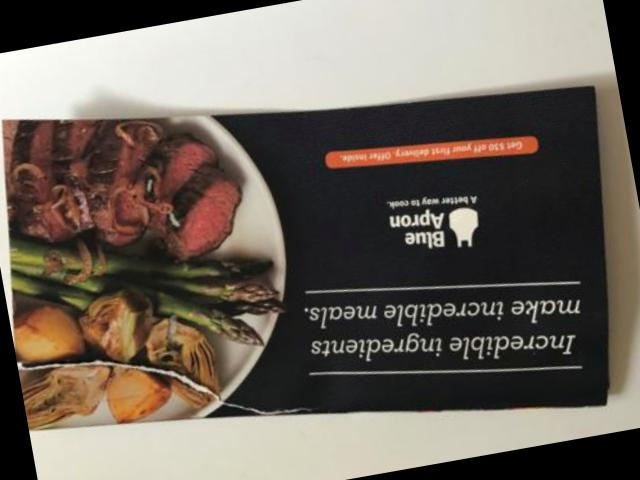cardboard paper: (2, 85, 605, 426)
